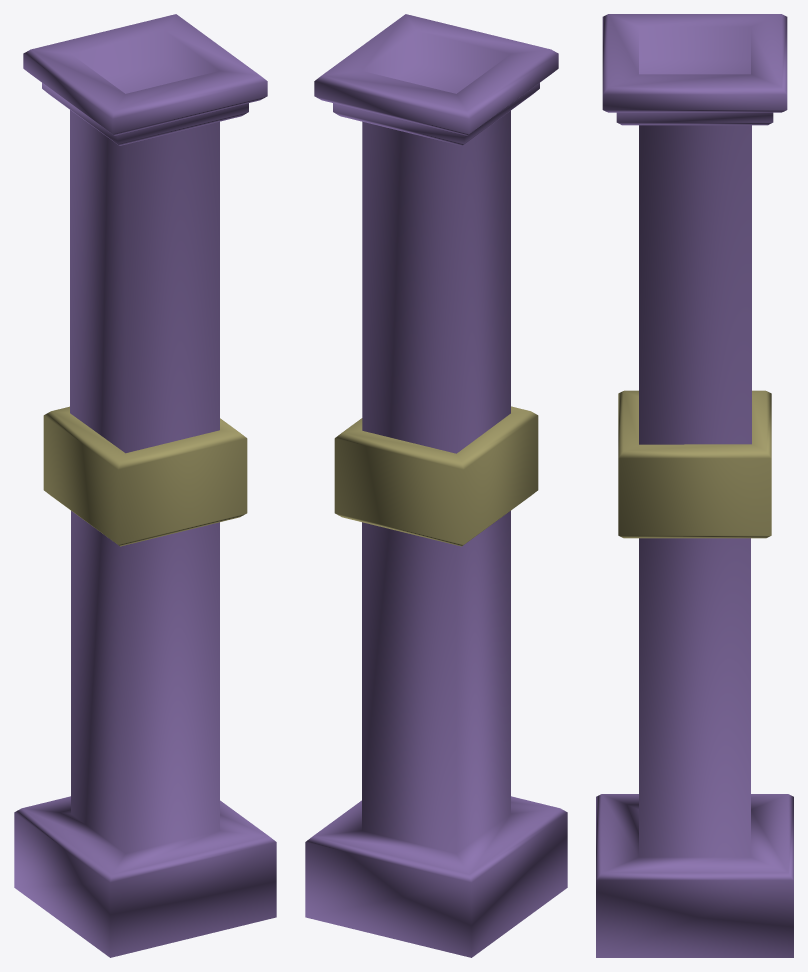
Rendered from PosteLuzOro_low.fbx.
3 renders of one model, left to right at view 1: azimuth 30°, elevation 25°; view 2: azimuth 150°, elevation 25°; view 3: azimuth 270°, elevation 25°, orthographic. The views are drawn at different scales.
Visible parts, largest first — view 1: LampPost_low; view 2: LampPost_low; view 3: LampPost_low.
Boxes of the visible parts, x1,y1,x2,y2 form: LampPost_low: (14, 14, 276, 957); LampPost_low: (305, 14, 567, 957); LampPost_low: (596, 14, 793, 957).
Size of the model in its own units: 48.81 by 235 by 48.81.
